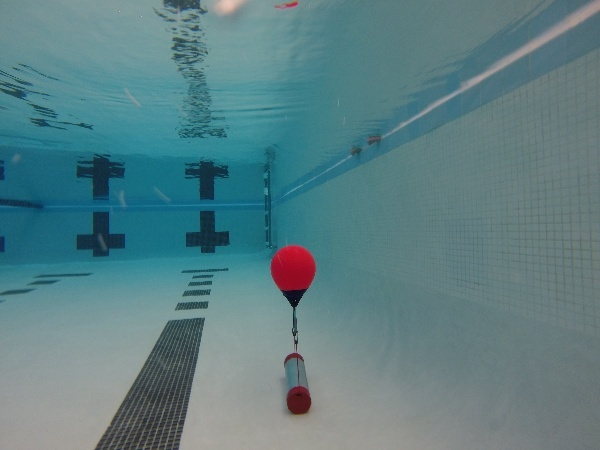buoy_red: (265, 244, 321, 308)
